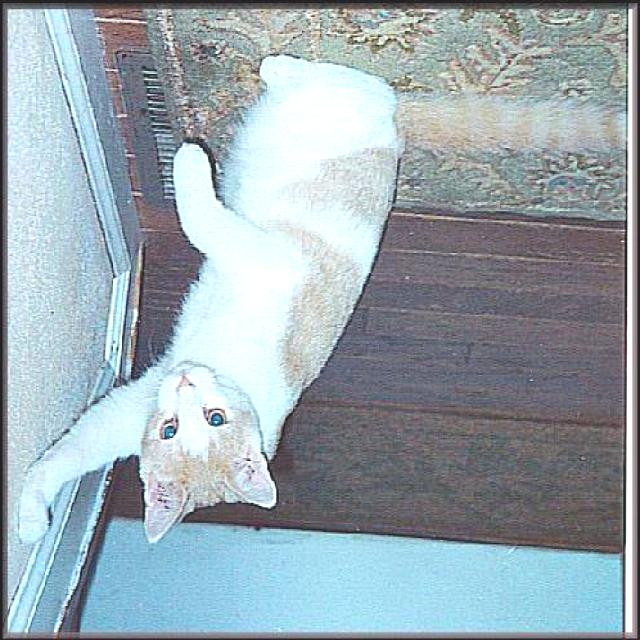Kucing: (18, 49, 407, 588)
